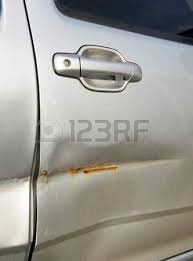Dent: (35, 135, 182, 248)
